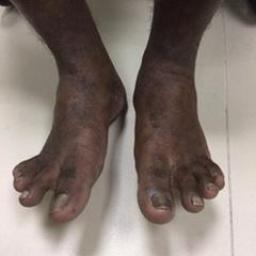Front View -Both Feet-: (7, 26, 236, 232)
